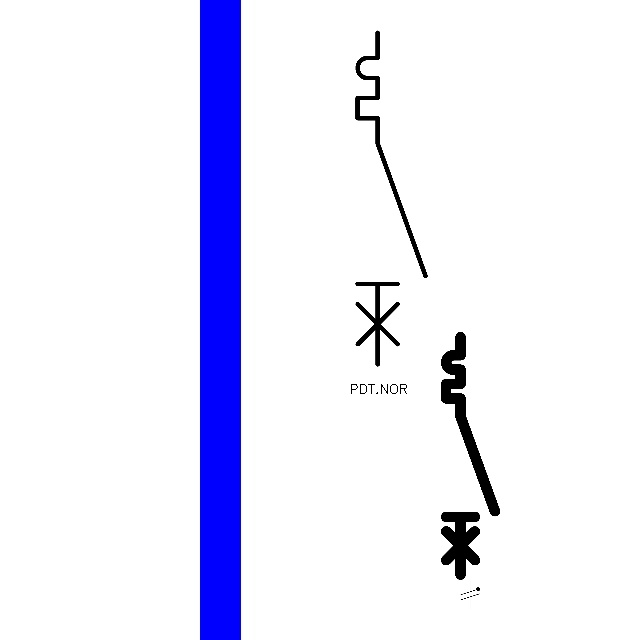interruptor_termomagnetico: (349, 24, 434, 372), (440, 331, 501, 580)
